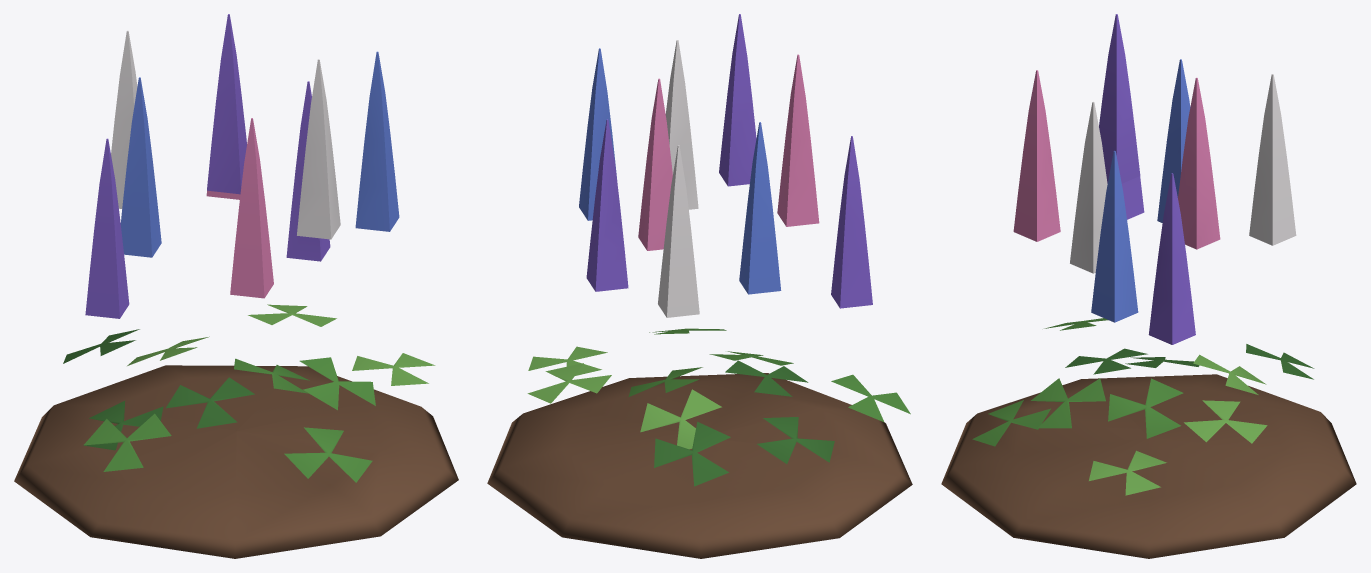
The model's file is lupins.far.glb.
The picture shows the model from 3 angles, left to right: view 1: azimuth 30°, elevation 25°; view 2: azimuth 150°, elevation 25°; view 3: azimuth 270°, elevation 25°; orthographic projection. The views are drawn at different scales.
Visible parts, largest first — view 1: lupins; view 2: lupins; view 3: lupins.
Part boxes in pixels (x1,y1,x2,y2): lupins: (14, 14, 458, 558); lupins: (487, 14, 912, 558); lupins: (941, 14, 1356, 558).
Bounding box in the file's own units: 0.84 × 0.987 × 0.84.
